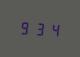four: (47, 20, 60, 38)
nine: (18, 18, 31, 36)
three: (33, 19, 46, 37)
